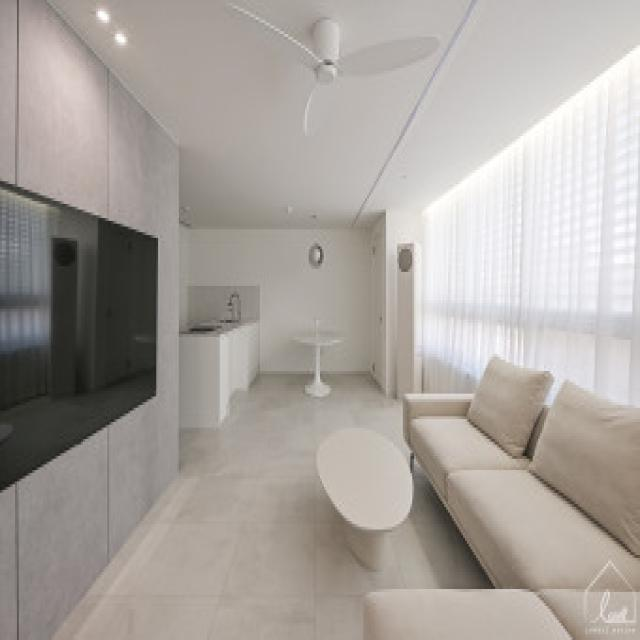Sofa: (410, 354, 640, 630)
Table: (316, 423, 415, 576)
tv: (1, 175, 159, 494)
